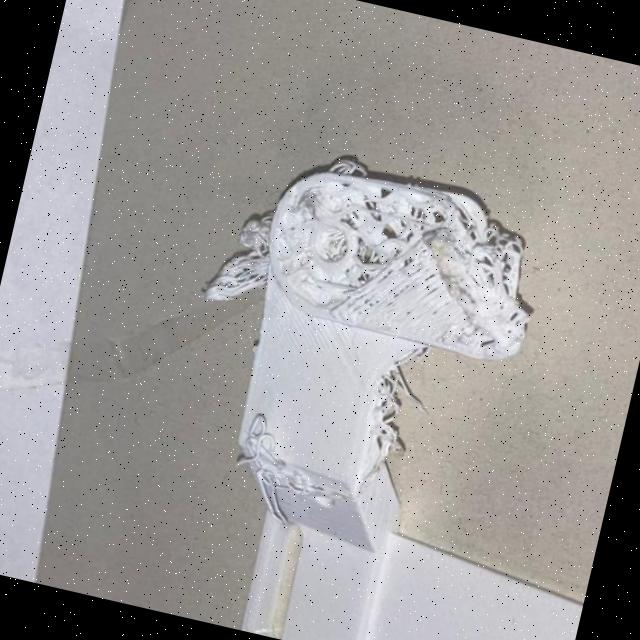spaghetti: (458, 226, 536, 324), (359, 370, 423, 467), (204, 241, 274, 314), (232, 418, 300, 484)
